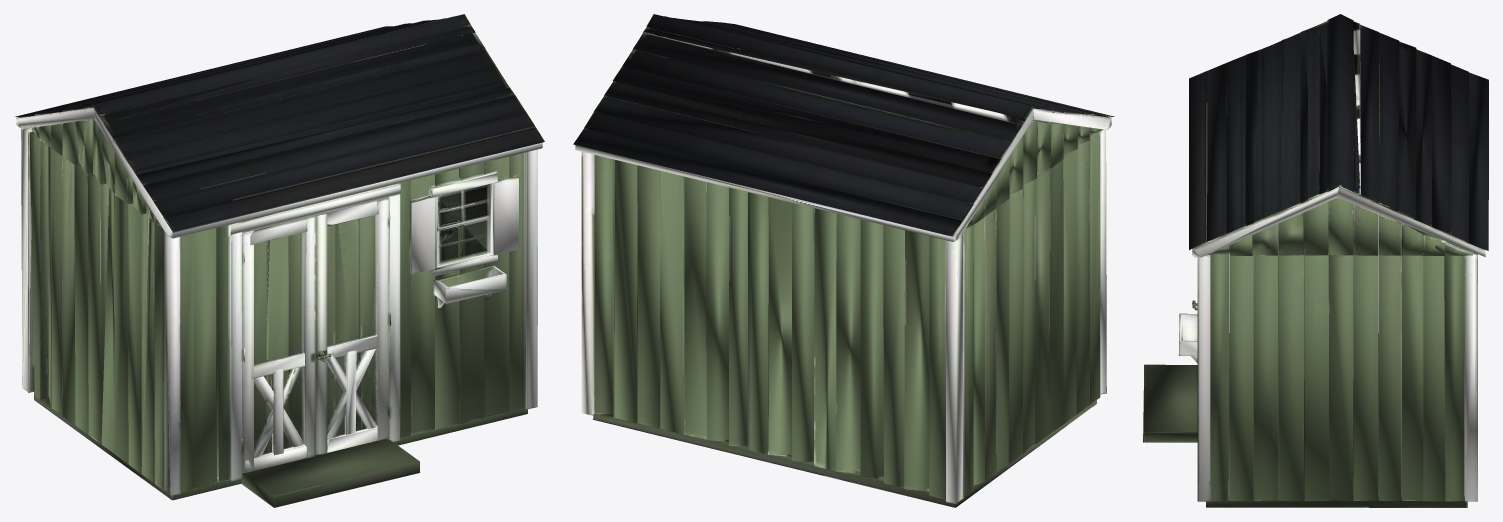
File: shed_nj.glb
3 views of the same model, side by side, from view 1: azimuth 30°, elevation 25°; view 2: azimuth 150°, elevation 25°; view 3: azimuth 270°, elevation 25° (orthographic). The views are drawn at different scales.
Size of the model in its own units: 0.9556 by 0.851 by 0.8169.
1 material, 1 textured.
